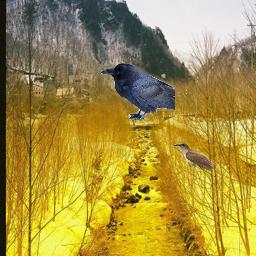Crow: (100, 63, 175, 120)
Cuckoo: (173, 143, 213, 172)
